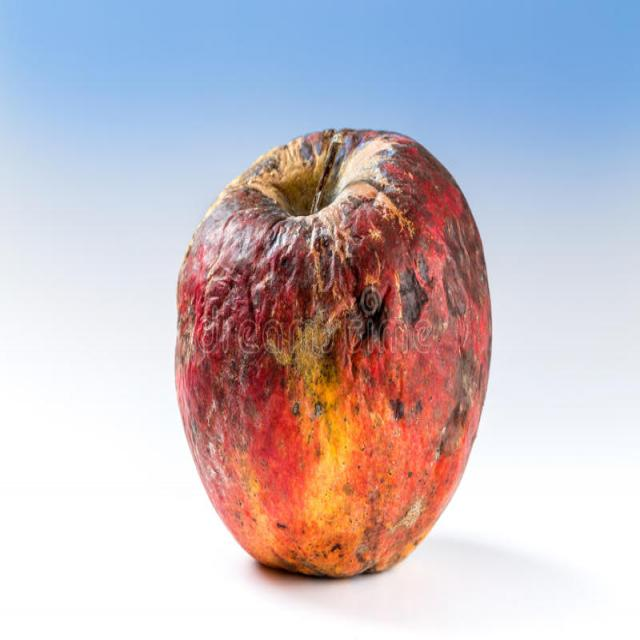Rotten: (181, 141, 484, 594)
